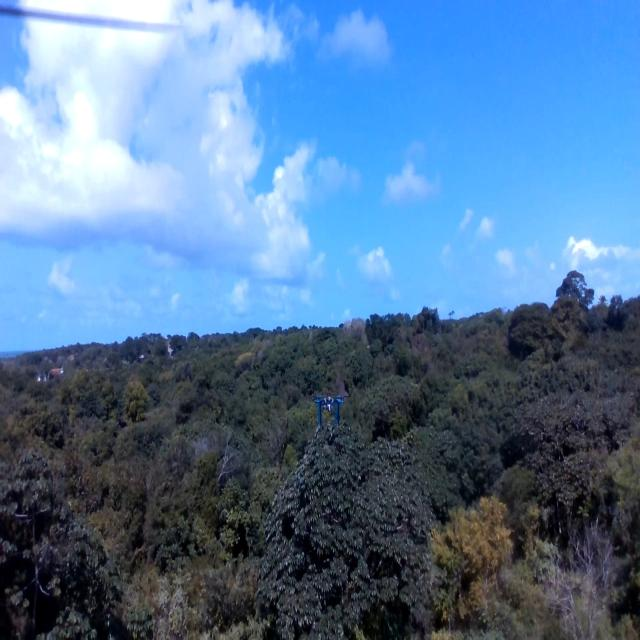-uav-: (308, 385, 352, 431)
